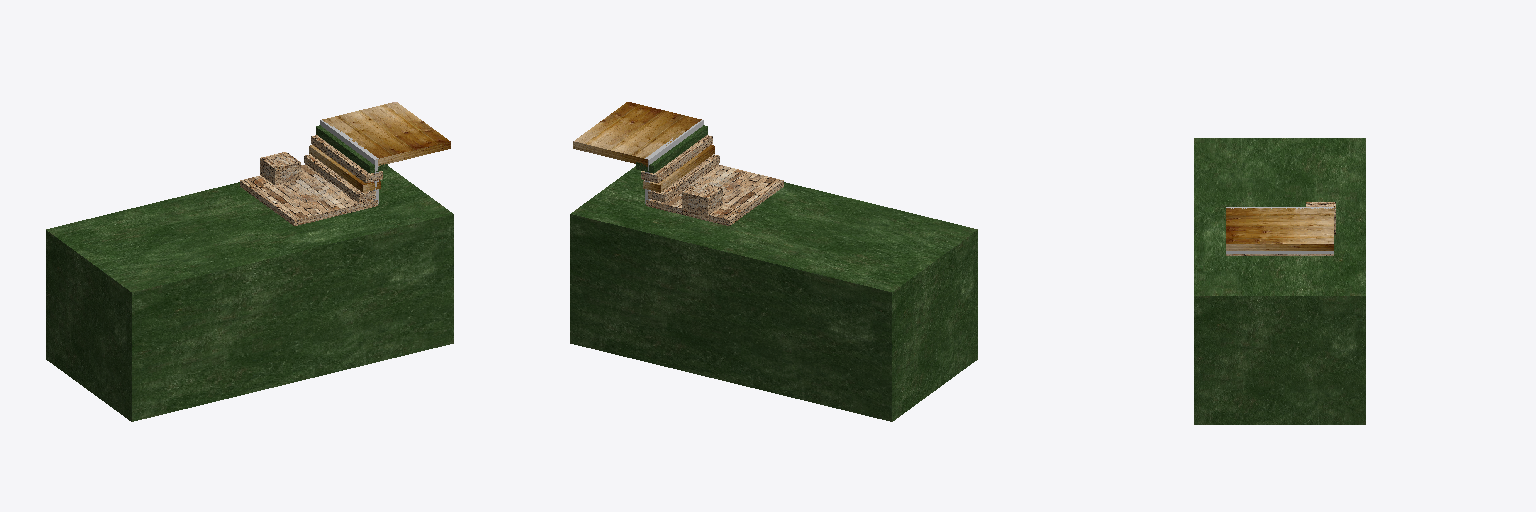
3 views of the same model, side by side, from view 1: azimuth 30°, elevation 25°; view 2: azimuth 150°, elevation 25°; view 3: azimuth 270°, elevation 25° (orthographic).
Parts seen in each view (by area): view 1: Cube.007_PHYSICS_BOX_Cube.011, Cube.003_PHYSICS_BOX_Cube.006, Cube_PHYSICS_BOX_Cube.003, Cube_PHYSICS_SPHERE_Cube.012, Cube.002_PHYSICS_BOX_Cube.007, Cube.005_PHYSICS_BOX_Cube.009, Cube.006_PHYSICS_BOX_Cube.010, Cube.004_PHYSICS_BOX_Cube.008, Cube.001_PHYSICS_BOX_Cube.004; view 2: Cube.007_PHYSICS_BOX_Cube.011, Cube.003_PHYSICS_BOX_Cube.006, Cube_PHYSICS_BOX_Cube.003, Cube_PHYSICS_SPHERE_Cube.012, Cube.002_PHYSICS_BOX_Cube.007, Cube.005_PHYSICS_BOX_Cube.009, Cube.006_PHYSICS_BOX_Cube.010, Cube.004_PHYSICS_BOX_Cube.008; view 3: Cube.007_PHYSICS_BOX_Cube.011, Cube.003_PHYSICS_BOX_Cube.006.
Boxes of the visible parts, <box> form: Cube.007_PHYSICS_BOX_Cube.011: <box>46,166,453,421</box>; Cube.003_PHYSICS_BOX_Cube.006: <box>322,102,450,165</box>; Cube_PHYSICS_BOX_Cube.003: <box>240,164,377,225</box>; Cube_PHYSICS_SPHERE_Cube.012: <box>260,152,300,184</box>; Cube.002_PHYSICS_BOX_Cube.007: <box>304,154,375,202</box>; Cube.005_PHYSICS_BOX_Cube.009: <box>311,135,382,182</box>; Cube.006_PHYSICS_BOX_Cube.010: <box>316,125,387,173</box>; Cube.004_PHYSICS_BOX_Cube.008: <box>309,145,380,192</box>; Cube.001_PHYSICS_BOX_Cube.004: <box>320,120,378,203</box>; Cube.007_PHYSICS_BOX_Cube.011: <box>570,166,977,421</box>; Cube.003_PHYSICS_BOX_Cube.006: <box>573,102,701,166</box>; Cube_PHYSICS_BOX_Cube.003: <box>646,164,783,225</box>; Cube_PHYSICS_SPHERE_Cube.012: <box>682,182,722,218</box>; Cube.002_PHYSICS_BOX_Cube.007: <box>648,154,719,202</box>; Cube.005_PHYSICS_BOX_Cube.009: <box>641,135,712,182</box>; Cube.006_PHYSICS_BOX_Cube.010: <box>636,125,707,173</box>; Cube.004_PHYSICS_BOX_Cube.008: <box>643,145,714,192</box>; Cube.007_PHYSICS_BOX_Cube.011: <box>1194,138,1365,424</box>; Cube.003_PHYSICS_BOX_Cube.006: <box>1226,208,1333,250</box>.
Bounding box in the file's own units: 39.04 × 20.9 × 17.4.
Materials: 4 (3 with a texture image).